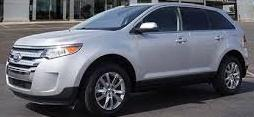SUV: (6, 4, 248, 113)
